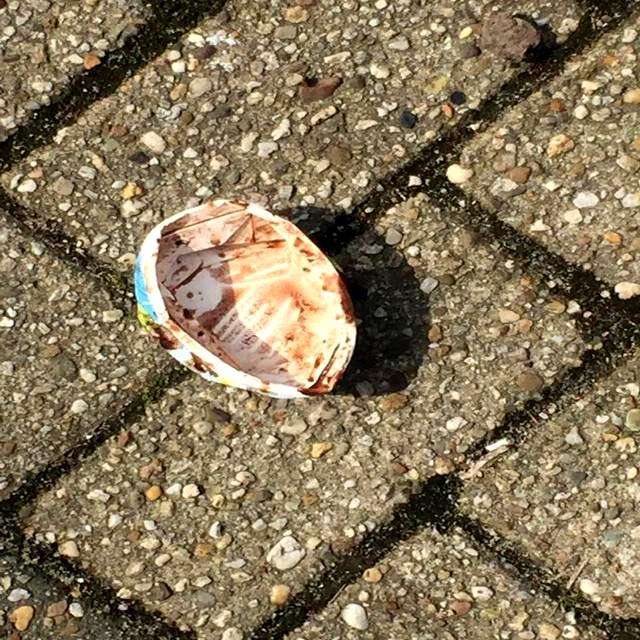Paper: (128, 196, 360, 402)
